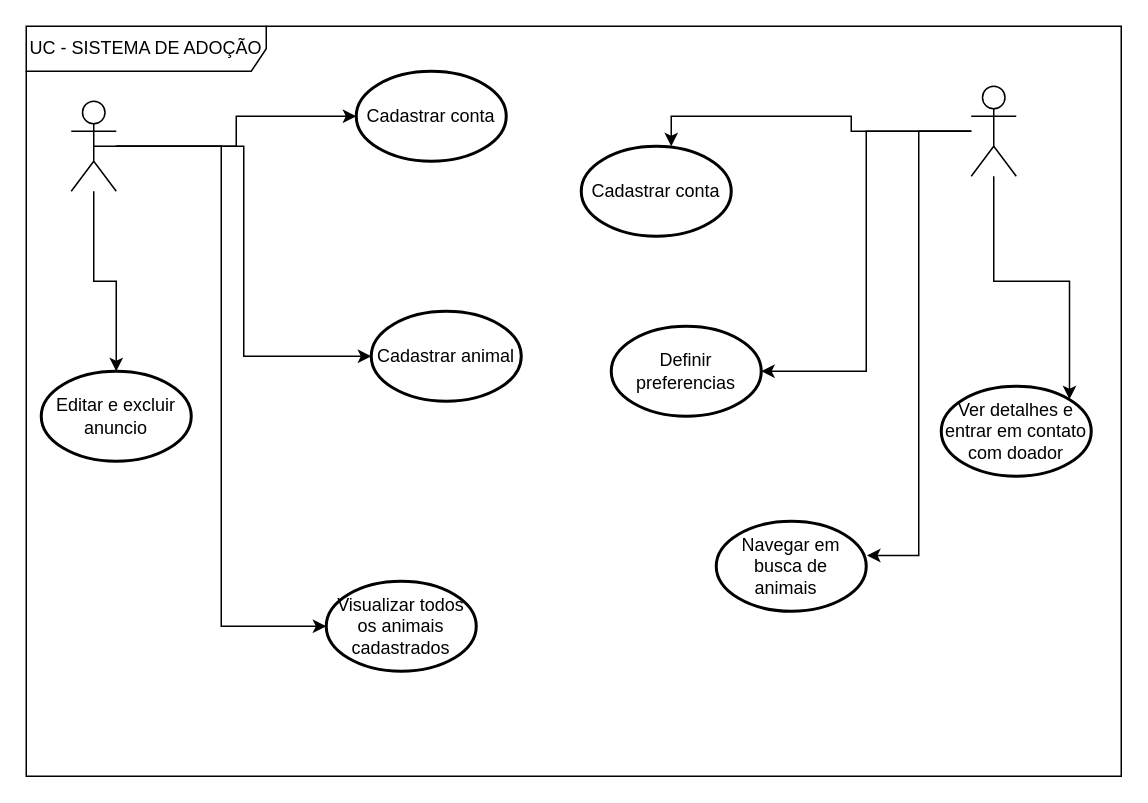
The diagram is 1148 pixels wide and 803 high, and some of its shapes have lost their labels. The centre of each missing label's shape, as x and y in pixels:
Administrador: point (93, 145)
Usúario(adodante): point (993, 130)
